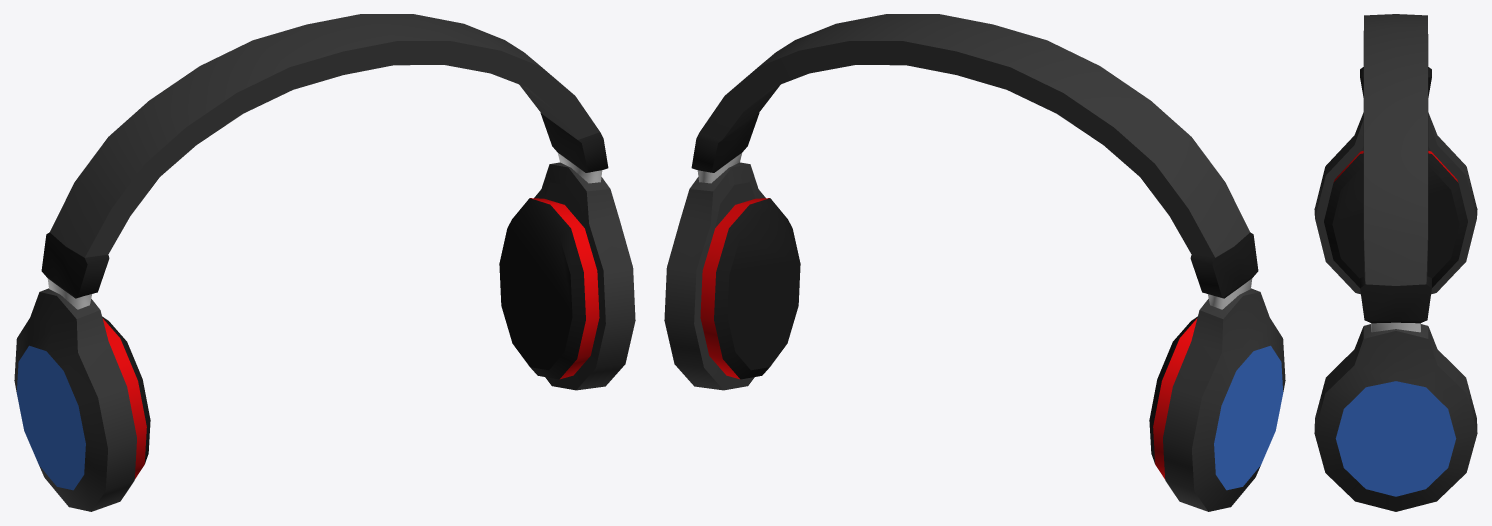
File: Headphones.fbx
The picture shows the model from 3 angles, left to right: view 1: azimuth 30°, elevation 25°; view 2: azimuth 150°, elevation 25°; view 3: azimuth 270°, elevation 25°; orthographic projection. The views are drawn at different scales.
Parts seen in each view (by area): view 1: Headphones; view 2: Headphones; view 3: Headphones.
Boxes of the visible parts, box(x1,y1,x2,y2) form: Headphones: box(14, 14, 635, 511); Headphones: box(664, 14, 1285, 511); Headphones: box(1314, 14, 1477, 511).
Size of the model in its own units: 98.47 by 68.99 by 28.69.
